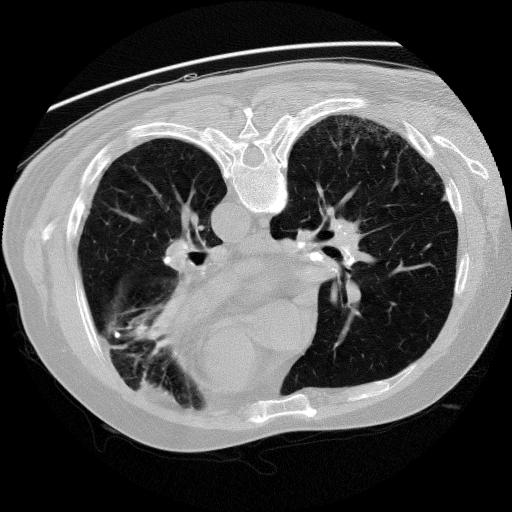nodule: (112, 328, 126, 342)
